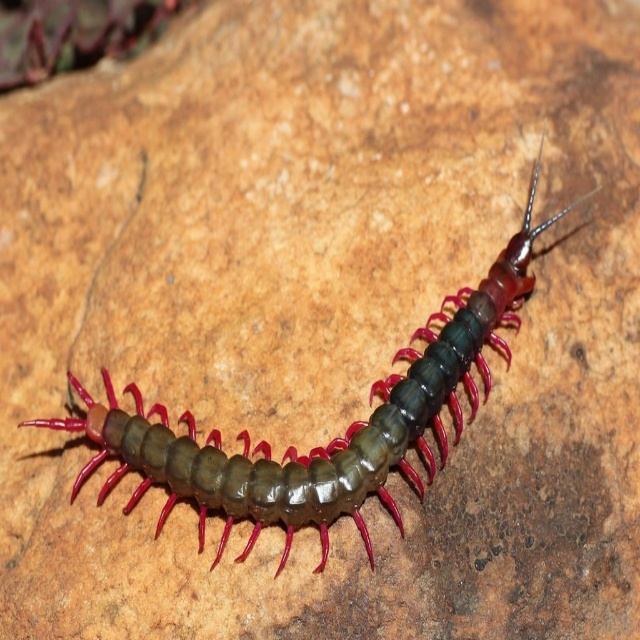Centipede: (17, 126, 603, 579)
